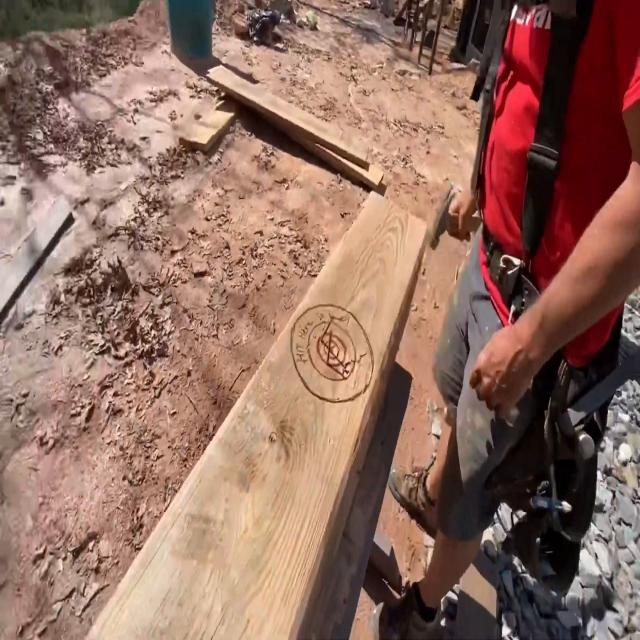hammer: (430, 186, 481, 251)
